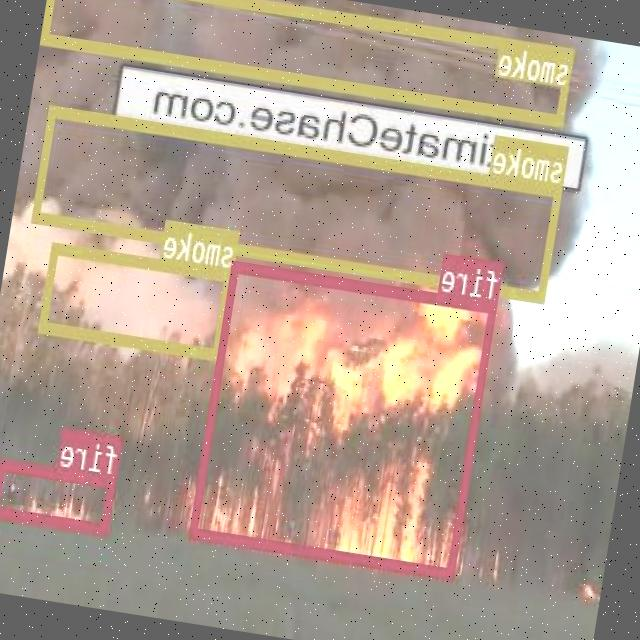fire: (191, 260, 499, 578), (0, 458, 118, 532)
smoke: (33, 104, 564, 302), (43, 0, 576, 123), (41, 242, 236, 360)
